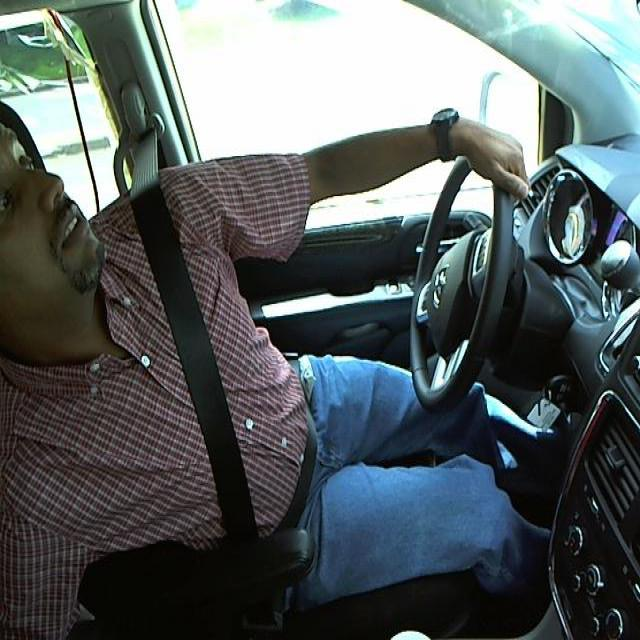seatbelt: (124, 197, 317, 539)
